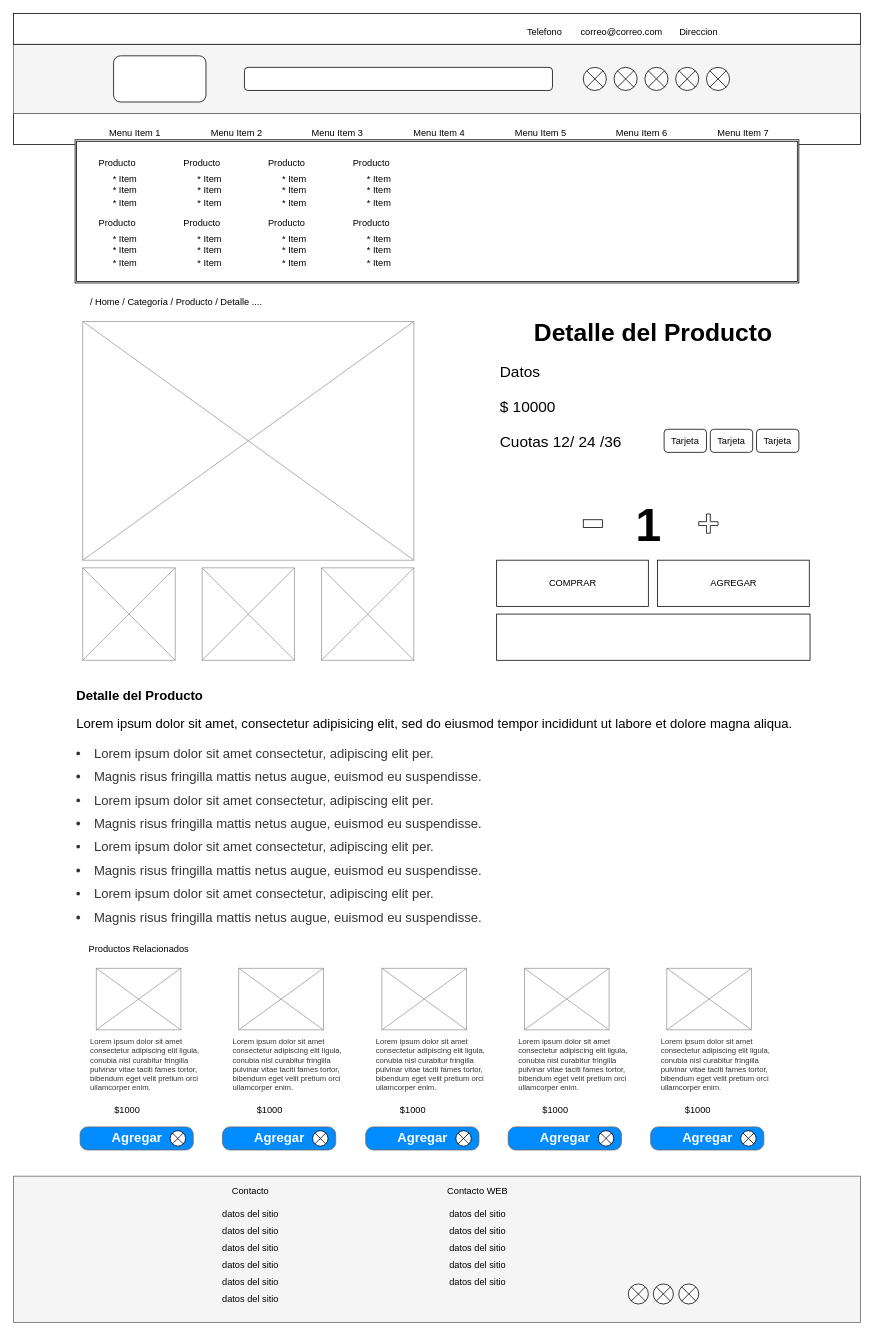
Some shapes in this 874 by 1336 pixel diagram are drawn without their labels. Here are the shapes that lost their labels. From the top down, the box of each, then its label:
(113, 55, 206, 102): LOGO
(244, 67, 552, 90): Buscador
(496, 613, 810, 660): CALCULAR
